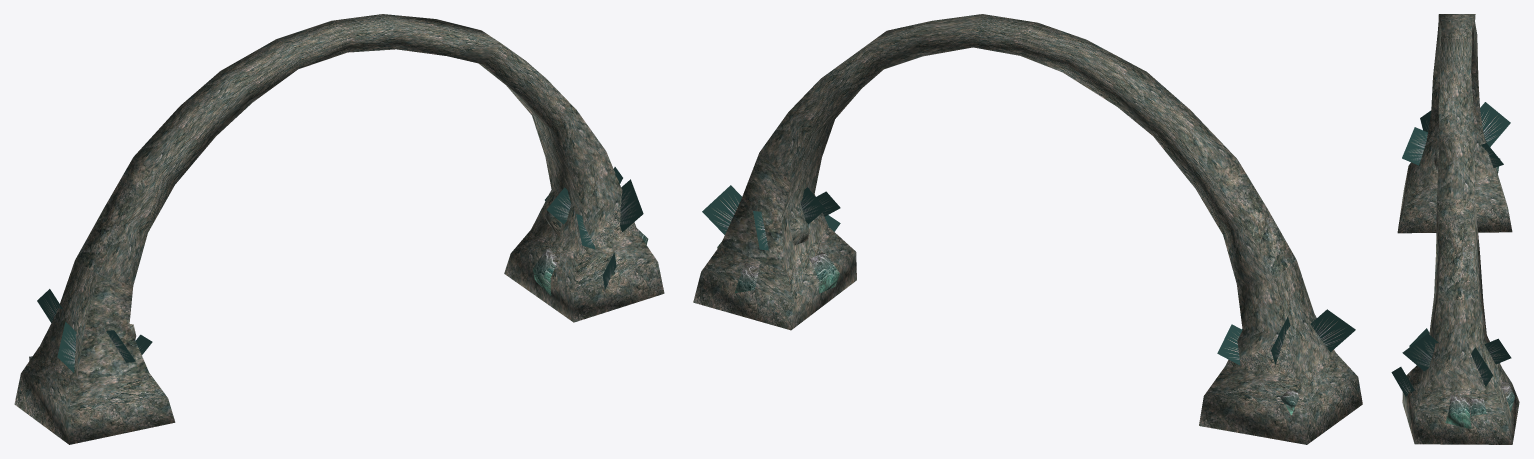
The model's file is rock_crystl_arch_med_l3.fbx.
The picture shows the model from 3 angles, left to right: view 1: azimuth 30°, elevation 25°; view 2: azimuth 150°, elevation 25°; view 3: azimuth 270°, elevation 25°; orthographic projection. The views are drawn at different scales.
Parts seen in each view (by area): view 1: mesh_node; view 2: mesh_node; view 3: mesh_node.
Boxes of the visible parts, <box> form: mesh_node: <box>14,14,664,444</box>; mesh_node: <box>693,14,1362,444</box>; mesh_node: <box>1391,14,1519,444</box>.
Size of the model in its own units: 91.41 by 46.16 by 19.22.
